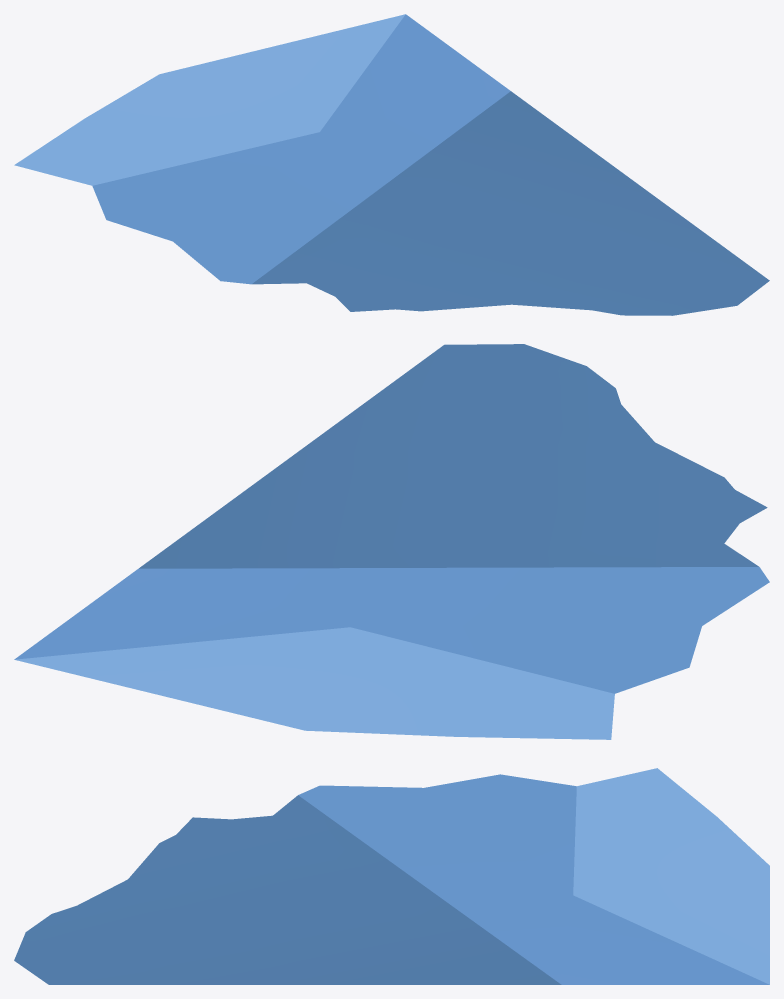
Rendered from Flooding_Zones.fbx.
3 views of the same model, one above another, from view 1: azimuth 30°, elevation 25°; view 2: azimuth 150°, elevation 25°; view 3: azimuth 270°, elevation 25° (orthographic). The views are drawn at different scales.
Parts seen in each view (by area): view 1: Flood_Zone_01, Flood_Zone_03, Flood_Zone_02; view 2: Flood_Zone_01, Flood_Zone_03, Flood_Zone_02; view 3: Flood_Zone_01, Flood_Zone_03, Flood_Zone_02.
Boxes of the visible parts, x1,y1,x2,y2 form: Flood_Zone_01: [252, 91, 769, 315]; Flood_Zone_03: [92, 14, 510, 284]; Flood_Zone_02: [14, 14, 405, 185]; Flood_Zone_01: [139, 344, 767, 568]; Flood_Zone_03: [14, 567, 769, 693]; Flood_Zone_02: [14, 627, 614, 739]; Flood_Zone_01: [14, 795, 561, 984]; Flood_Zone_03: [298, 774, 769, 984]; Flood_Zone_02: [573, 768, 769, 984].
Bounding box in the file's own units: 350721 × 0.0638 × 516786.
